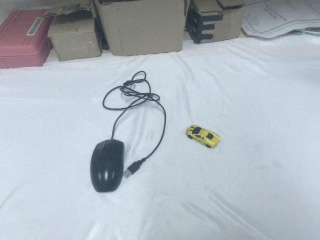box: (93, 1, 188, 56), (1, 8, 54, 69), (47, 9, 103, 62), (185, 1, 246, 45)
mouse: (90, 139, 125, 193)
toy_car: (186, 124, 222, 149)
